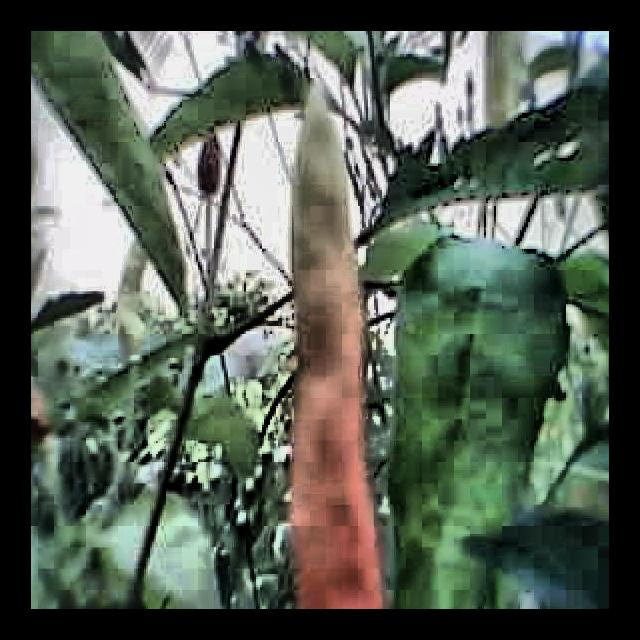Cabai: (293, 83, 382, 609)
